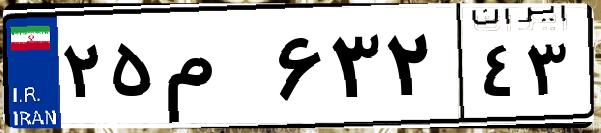2: (385, 28, 445, 110), (57, 26, 110, 100)
3: (330, 28, 385, 110), (525, 38, 570, 115)
4: (475, 38, 525, 113)
5: (110, 28, 158, 98)
6: (270, 28, 330, 110)
م: (158, 20, 270, 120)
